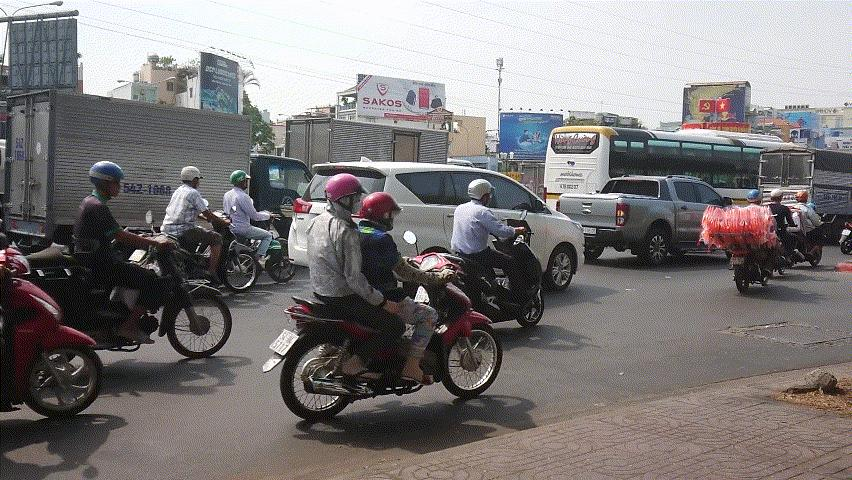driver: (260, 171, 505, 425), (9, 160, 234, 358), (129, 163, 260, 293), (452, 178, 545, 327), (222, 167, 298, 283), (724, 188, 779, 295)
helmet: (324, 171, 370, 217), (360, 191, 404, 232), (87, 160, 124, 201), (467, 178, 496, 206), (177, 163, 205, 190), (228, 168, 254, 190), (746, 189, 763, 206), (771, 187, 784, 204), (795, 190, 808, 203)
